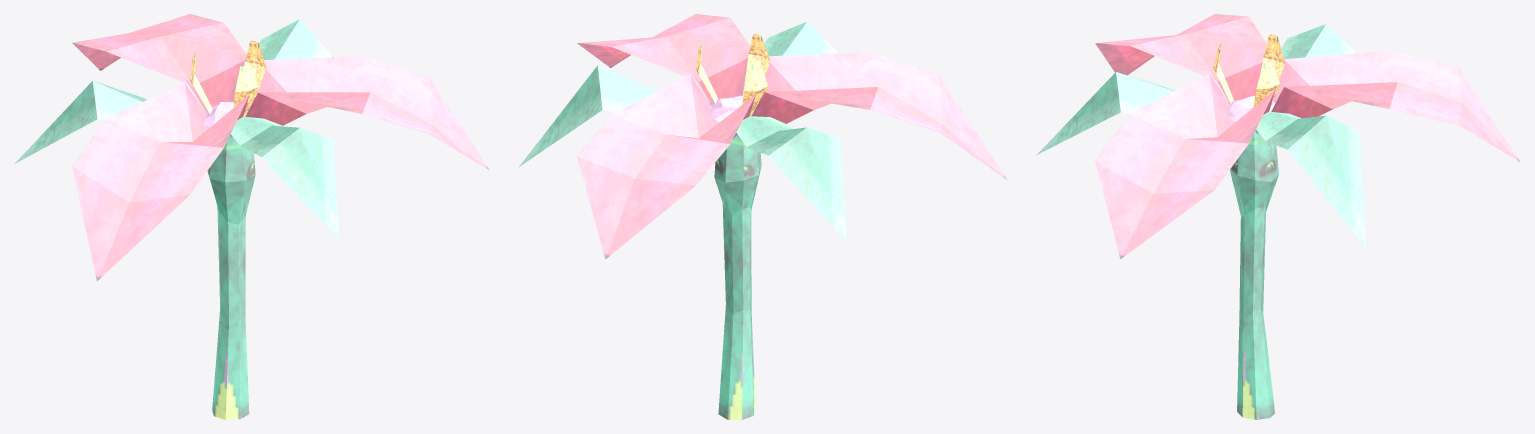
File: FLWR_01.fbx
3 views of the same model, side by side, from view 1: azimuth 30°, elevation 25°; view 2: azimuth 150°, elevation 25°; view 3: azimuth 270°, elevation 25° (orthographic).
Visible parts, largest first — view 1: FLWR_01; view 2: FLWR_01; view 3: FLWR_01.
Boxes of the visible parts, <box> form: FLWR_01: <box>14,14,489,419</box>; FLWR_01: <box>518,14,1007,419</box>; FLWR_01: <box>1037,14,1519,419</box>.
Bounding box in the file's own units: 252 × 222 × 266.
